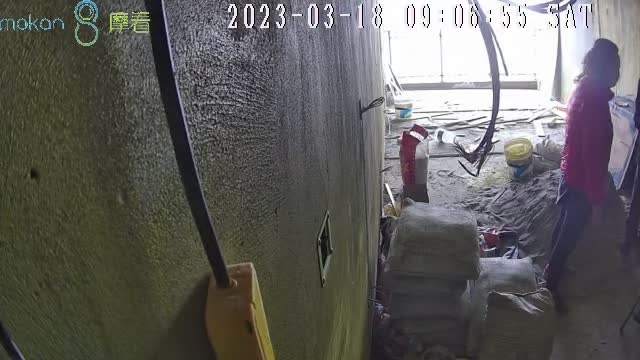people: (543, 39, 620, 308)
window: (381, 1, 550, 83)
